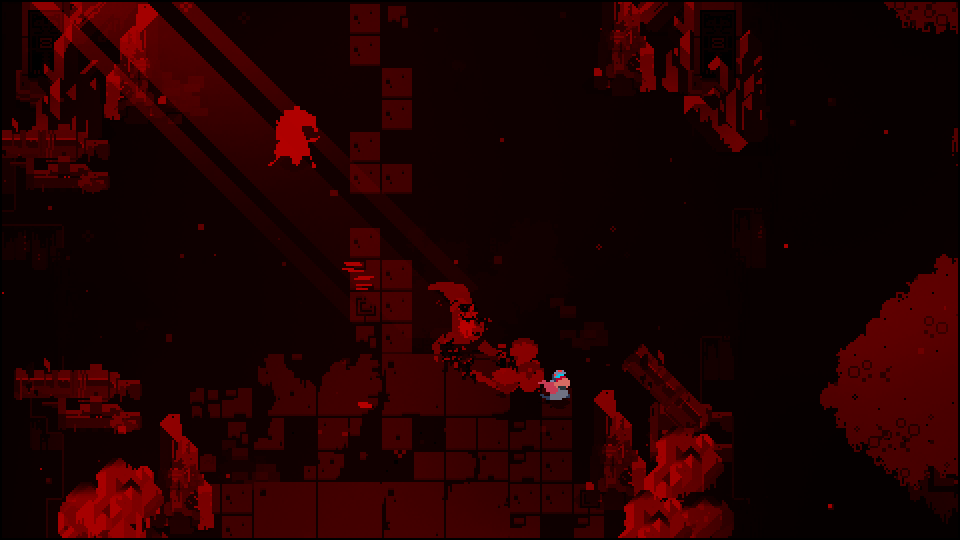player: (544, 368, 569, 408)
